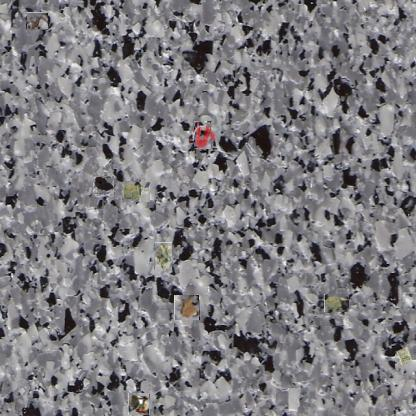dirty: (174, 295, 200, 320), (122, 182, 150, 202), (154, 242, 172, 271), (396, 344, 416, 368), (128, 394, 150, 415), (324, 294, 349, 312), (26, 12, 48, 29)
liquid: (190, 124, 214, 146), (93, 175, 113, 195)
